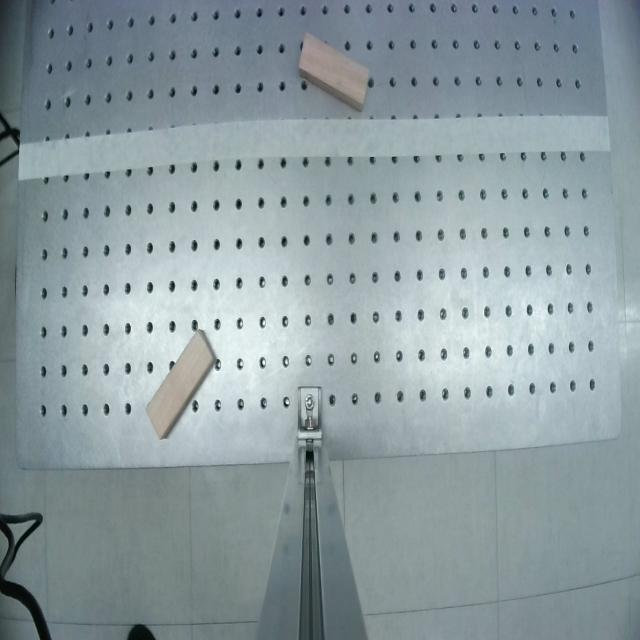wood: (135, 328, 225, 442), (285, 32, 382, 112)
